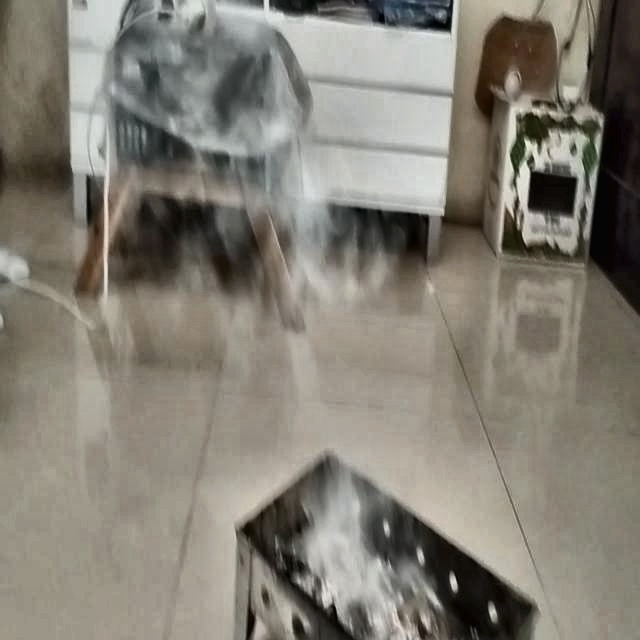smoke: (197, 27, 383, 610)
